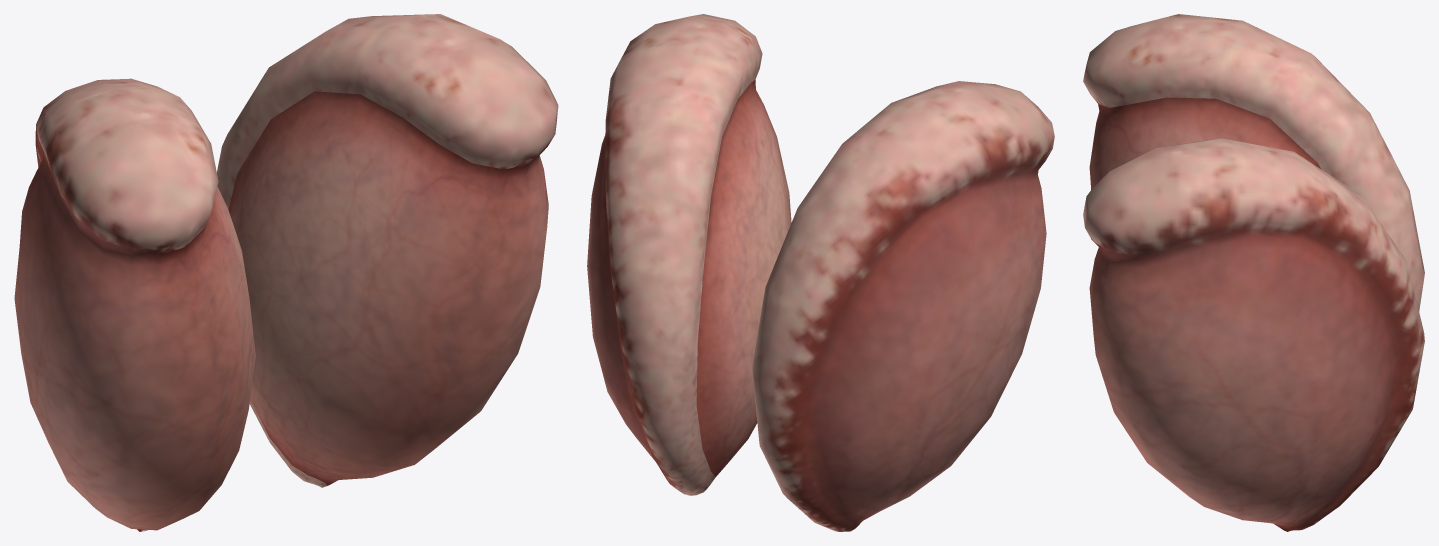
File: 男性_内分泌系统_睾丸.fbx
3 views of the same model, side by side, from view 1: azimuth 30°, elevation 25°; view 2: azimuth 150°, elevation 25°; view 3: azimuth 270°, elevation 25° (orthographic). The views are drawn at different scales.
Visible parts, largest first — view 1: 男性_内分泌系统_睾丸; view 2: 男性_内分泌系统_睾丸; view 3: 男性_内分泌系统_睾丸.
Part boxes in pixels (x1,y1,x2,y2): 男性_内分泌系统_睾丸: [14, 14, 558, 531]; 男性_内分泌系统_睾丸: [587, 14, 1054, 531]; 男性_内分泌系统_睾丸: [1083, 14, 1424, 531].
Bounding box in the file's own units: 5.61 × 5.46 × 4.15.
